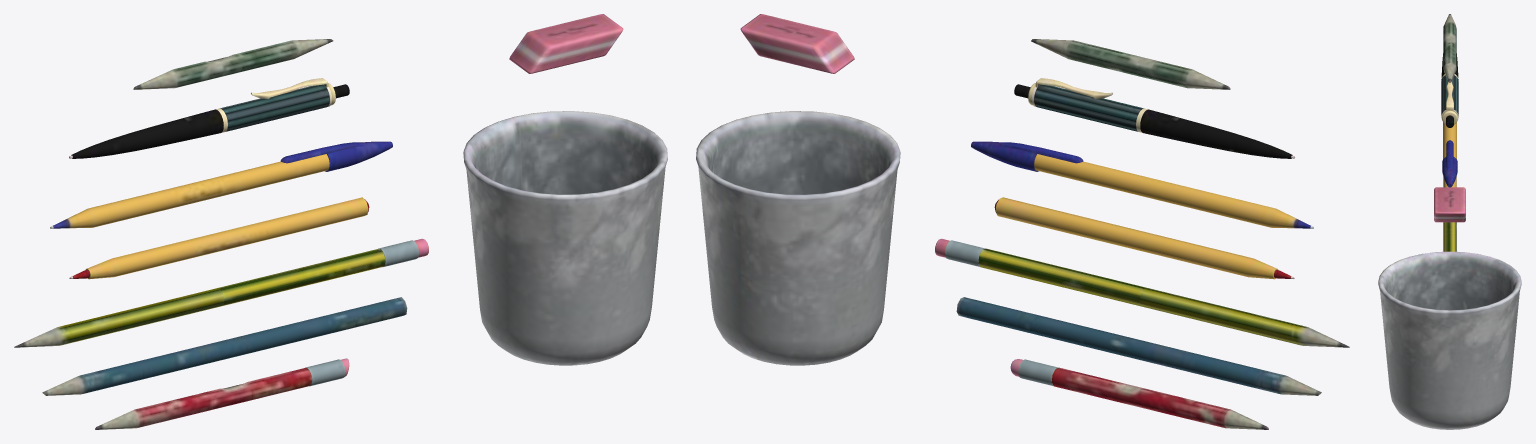
Rendered from stationery_supplies_1k.gltf.
3 views of the same model, side by side, from view 1: azimuth 30°, elevation 25°; view 2: azimuth 150°, elevation 25°; view 3: azimuth 270°, elevation 25° (orthographic). The views are drawn at different scales.
Parts seen in each view (by area): view 1: stationery_supplies_pencilcup, stationery_supplies_pencil_new_a, stationery_supplies_pencil_new_b, stationery_supplies_pen_blue, stationery_supplies_pen_fancy, stationery_supplies_pen_red, stationery_supplies_pencil_used, stationery_supplies_eraser, stationery_supplies_pencil_old; view 2: stationery_supplies_pencilcup, stationery_supplies_pencil_new_a, stationery_supplies_pencil_new_b, stationery_supplies_pen_blue, stationery_supplies_pen_fancy, stationery_supplies_pen_red, stationery_supplies_pencil_used, stationery_supplies_eraser, stationery_supplies_pencil_old; view 3: stationery_supplies_pencilcup, stationery_supplies_eraser, stationery_supplies_pen_fancy, stationery_supplies_pen_blue, stationery_supplies_pencil_old, stationery_supplies_pencil_new_a.
Part boxes in pixels (x1,y1,x2,y2): stationery_supplies_pencilcup: (463, 111, 667, 365); stationery_supplies_pencil_new_a: (14, 238, 428, 347); stationery_supplies_pencil_new_b: (42, 297, 407, 395); stationery_supplies_pen_blue: (50, 141, 392, 228); stationery_supplies_pen_fancy: (69, 78, 349, 158); stationery_supplies_pen_red: (69, 197, 369, 279); stationery_supplies_pencil_used: (95, 358, 349, 429); stationery_supplies_eraser: (509, 14, 623, 73); stationery_supplies_pencil_old: (133, 39, 333, 89); stationery_supplies_pencilcup: (696, 111, 900, 365); stationery_supplies_pencil_new_a: (935, 238, 1349, 347); stationery_supplies_pencil_new_b: (956, 297, 1321, 395); stationery_supplies_pen_blue: (971, 141, 1313, 228); stationery_supplies_pen_fancy: (1014, 78, 1294, 158); stationery_supplies_pen_red: (994, 197, 1294, 279); stationery_supplies_pencil_used: (1010, 359, 1268, 429); stationery_supplies_eraser: (740, 14, 854, 73); stationery_supplies_pencil_old: (1031, 39, 1230, 89); stationery_supplies_pencilcup: (1378, 251, 1521, 429); stationery_supplies_eraser: (1434, 187, 1465, 222); stationery_supplies_pen_fancy: (1441, 53, 1458, 127); stationery_supplies_pen_blue: (1442, 122, 1457, 187); stationery_supplies_pencil_old: (1443, 14, 1456, 82); stationery_supplies_pencil_new_a: (1443, 222, 1456, 251).
Size of the model in its own units: 0.3019 by 0.1643 by 0.0837.
1 material, 1 textured.
